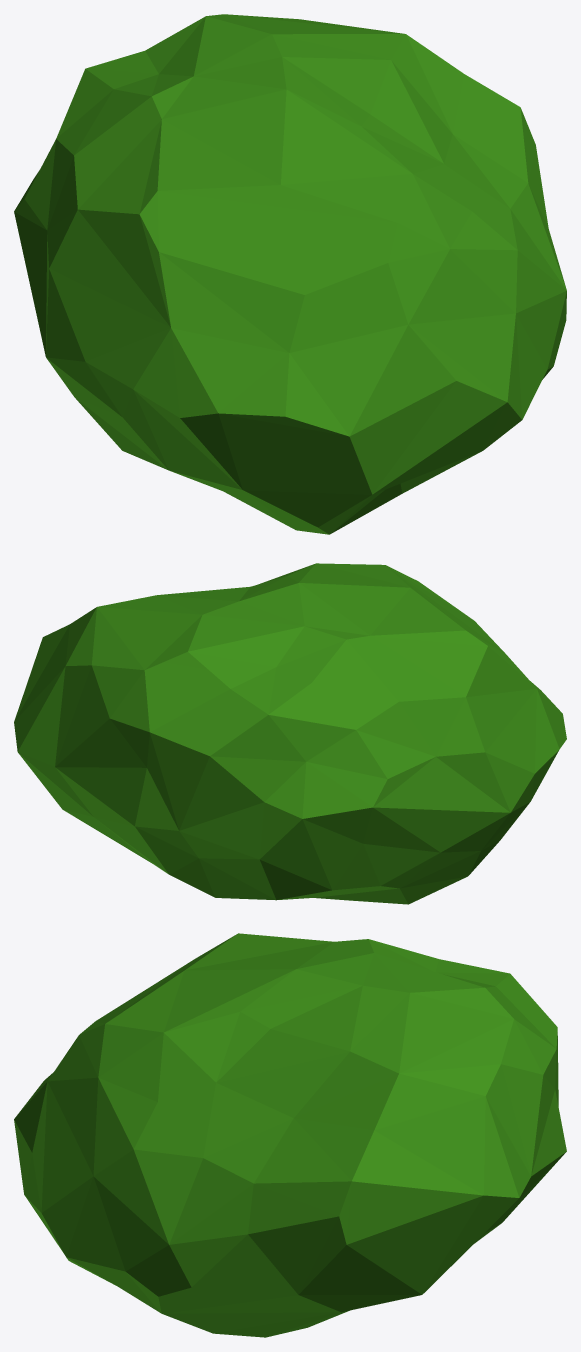
The model's file is BushF.fbx.
3 renders of one model, top to bottom at view 1: azimuth 30°, elevation 25°; view 2: azimuth 150°, elevation 25°; view 3: azimuth 270°, elevation 25°, orthographic. The views are drawn at different scales.
Parts seen in each view (by area): view 1: bushF_geo; view 2: bushF_geo; view 3: bushF_geo.
Part boxes in pixels (x1,y1,x2,y2): bushF_geo: (14, 14, 566, 534); bushF_geo: (14, 563, 566, 904); bushF_geo: (14, 933, 566, 1337).
Bounding box in the file's own units: 169 × 113 × 173.
